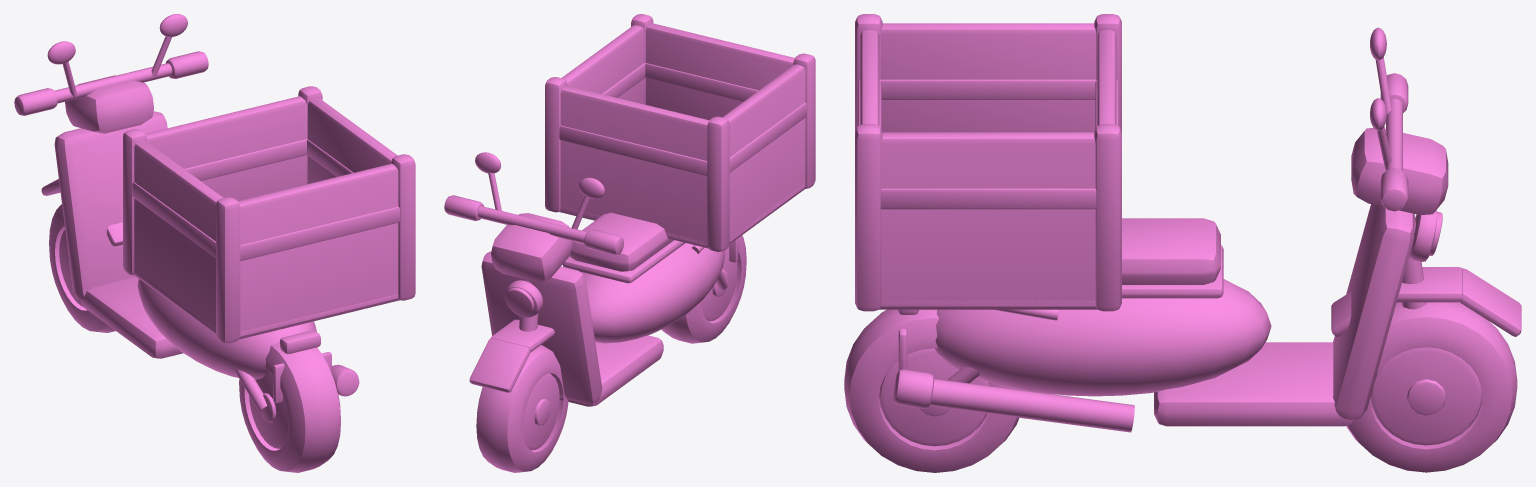
The model's file is Vehicle_Scooter.fbx.
The picture shows the model from 3 angles, left to right: view 1: azimuth 30°, elevation 25°; view 2: azimuth 150°, elevation 25°; view 3: azimuth 270°, elevation 25°; orthographic projection. The views are drawn at different scales.
Visible parts, largest first — view 1: Body, Paint, RearWheel, FrontWheel; view 2: Body, Paint, FrontWheel, RearWheel; view 3: Body, Paint, FrontWheel, RearWheel.
Part boxes in pixels (<box>): Body: <box>14,14,415,411</box>; Paint: <box>41,75,316,379</box>; RearWheel: <box>239,341,340,472</box>; FrontWheel: <box>49,204,115,332</box>; Body: <box>444,14,815,331</box>; Paint: <box>469,213,725,406</box>; FrontWheel: <box>476,345,568,472</box>; RearWheel: <box>661,235,746,343</box>; Body: <box>855,14,1442,432</box>; Paint: <box>935,128,1521,426</box>; FrontWheel: <box>1346,302,1517,472</box>; RearWheel: <box>844,309,1021,472</box>.
Size of the model in its own units: 2.7 by 4.14 by 6.34.
1 material, 1 textured.
